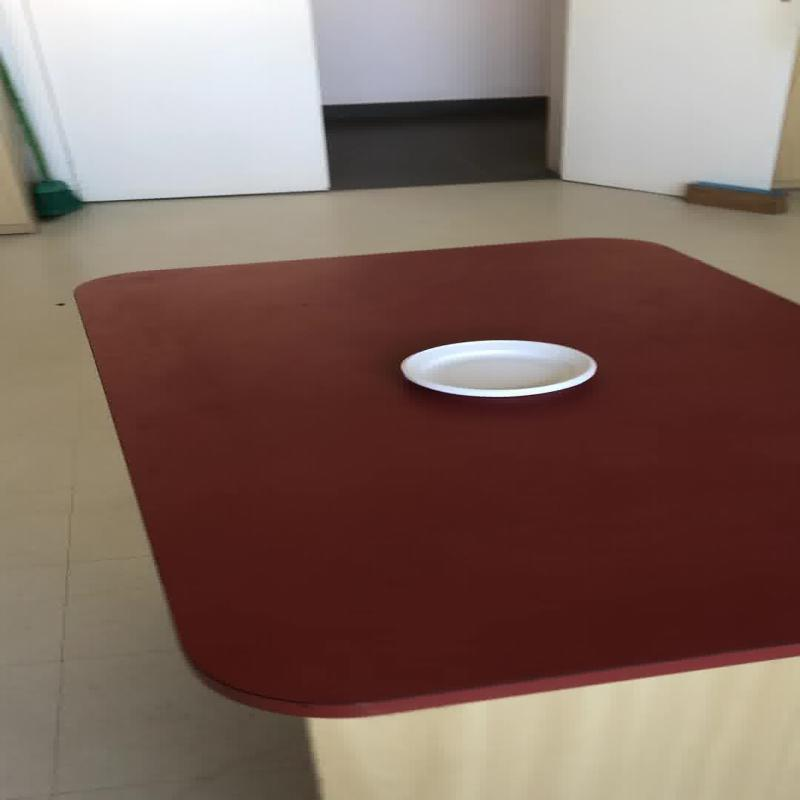plate: (397, 338, 596, 398)
